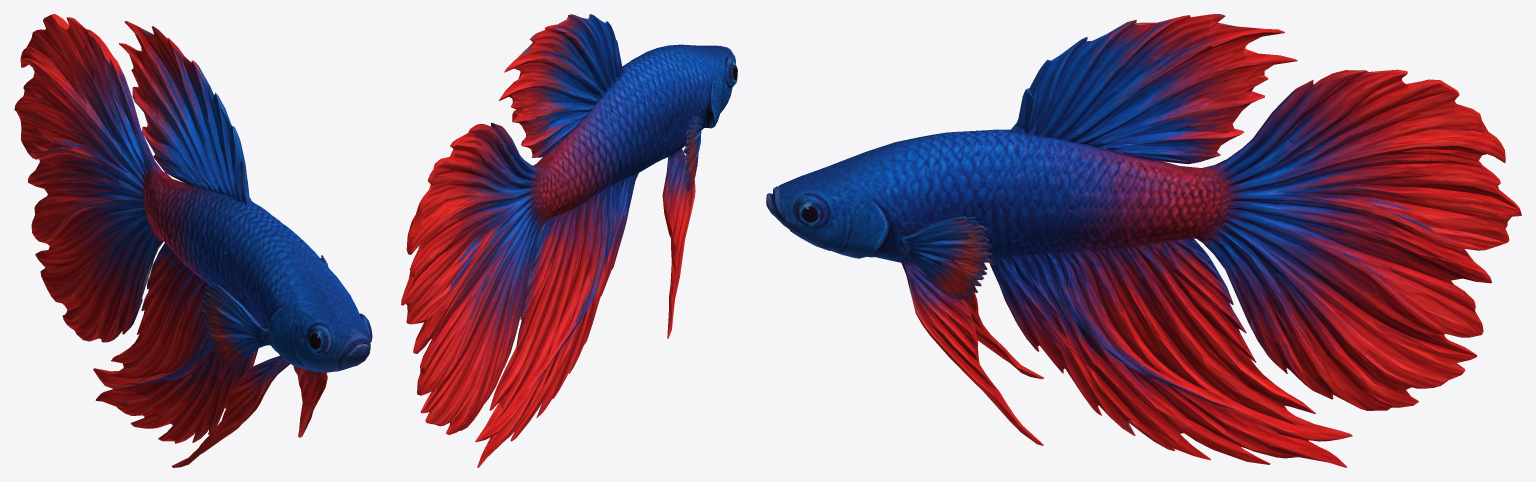
File: betta.glb
3 renders of one model, left to right at view 1: azimuth 30°, elevation 25°; view 2: azimuth 150°, elevation 25°; view 3: azimuth 270°, elevation 25°, orthographic. The views are drawn at different scales.
Bounding box in the file's own units: 0.0224 × 0.07 × 0.1056.
1 material, 1 textured.
